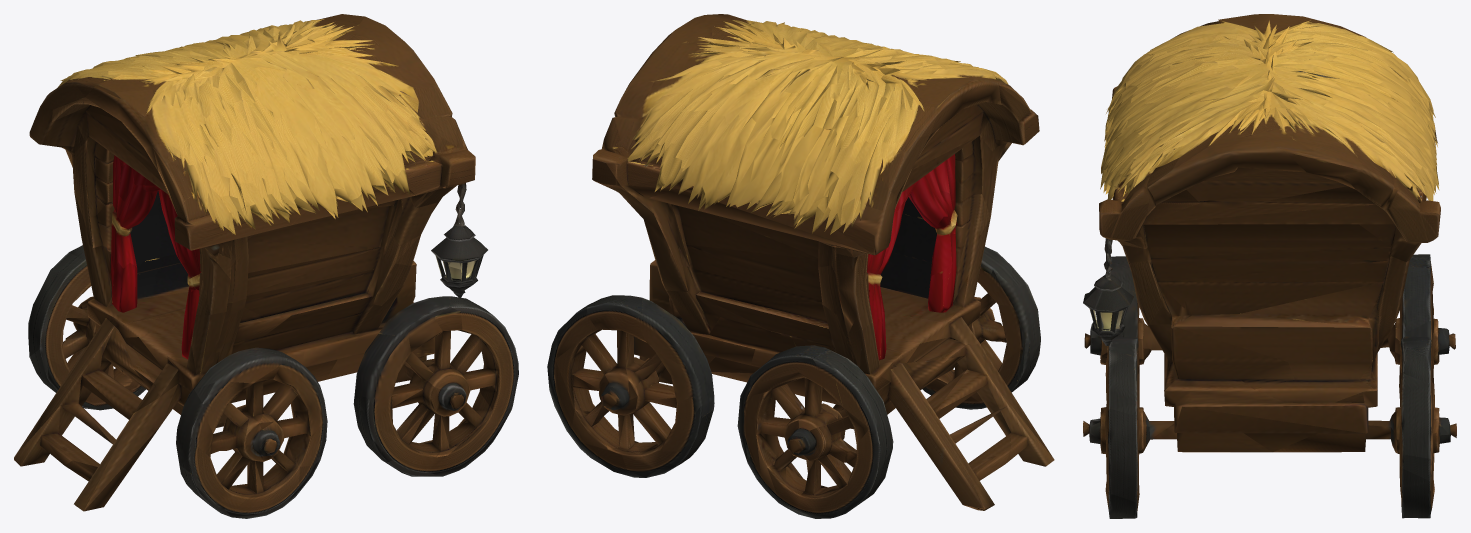
File: Rustic_Caravan.glb
The picture shows the model from 3 angles, left to right: view 1: azimuth 30°, elevation 25°; view 2: azimuth 150°, elevation 25°; view 3: azimuth 270°, elevation 25°; orthographic projection.
Visible parts, largest first — view 1: Mesh_0; view 2: Mesh_0; view 3: Mesh_0.
Boxes of the visible parts, x1,y1,x2,y2 form: Mesh_0: [14, 14, 518, 518]; Mesh_0: [547, 14, 1054, 518]; Mesh_0: [1083, 14, 1456, 518].
Size of the model in its own units: 1.9 by 1.86 by 1.59.
Materials: 1 (1 with a texture image).
